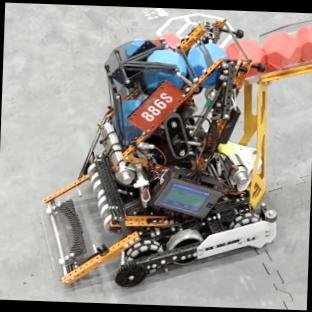Robot: (32, 5, 243, 277)
V5_BLUE: (143, 49, 187, 91), (188, 42, 227, 76), (122, 98, 143, 143), (125, 37, 145, 57), (202, 75, 214, 86)
V5_RED: (262, 32, 301, 70), (226, 39, 265, 64), (296, 24, 312, 59), (248, 68, 259, 76)
